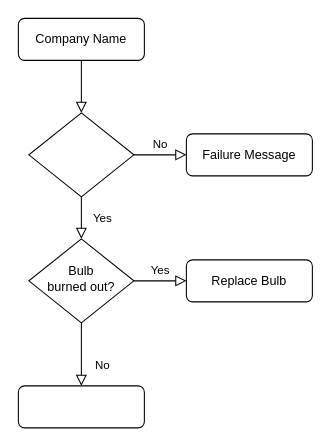
Image size: 331x446. Some labels were removed from this diagram. The shapes that lost their labels are listed below. From the top down, each one's centre as x and y in pixels, then its label:
At point 81,154: "Is Company Name valid".
At point 80,406: "Repair Lamp".
